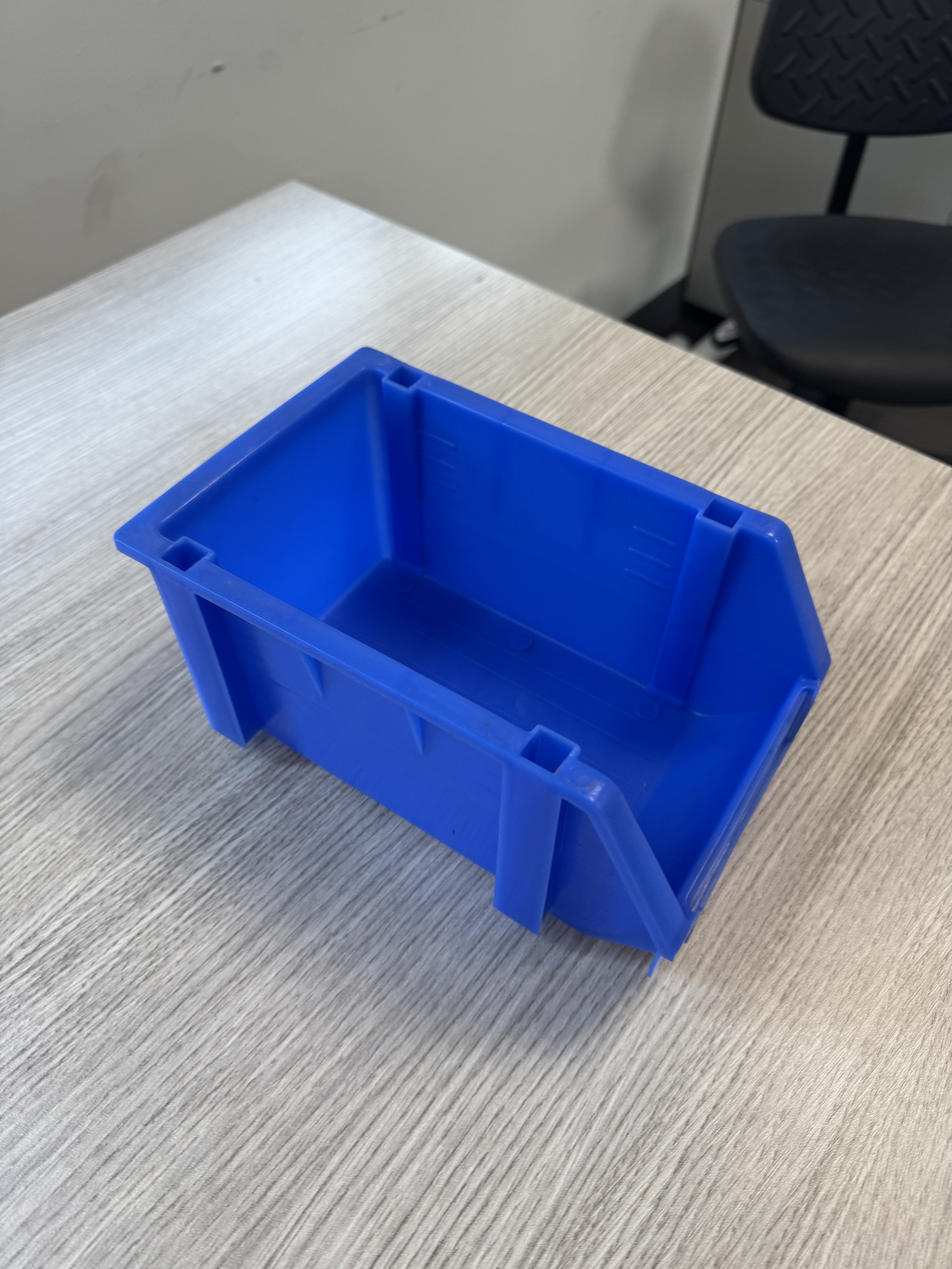Bin Boundary: (158, 248, 889, 914)
